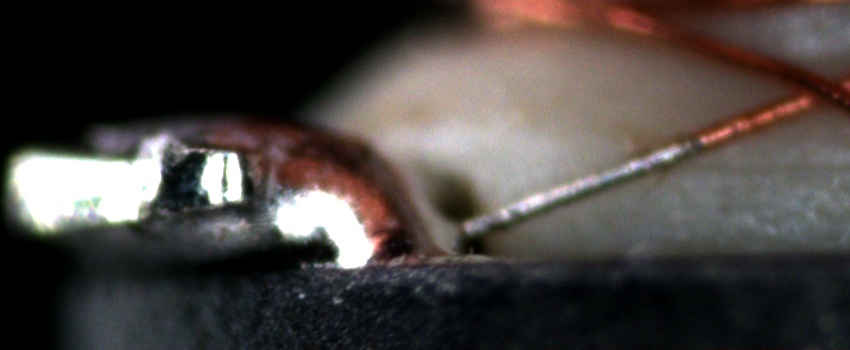CL: (769, 58, 846, 117)
DL: (642, 134, 850, 198)
TS: (460, 136, 704, 236)
